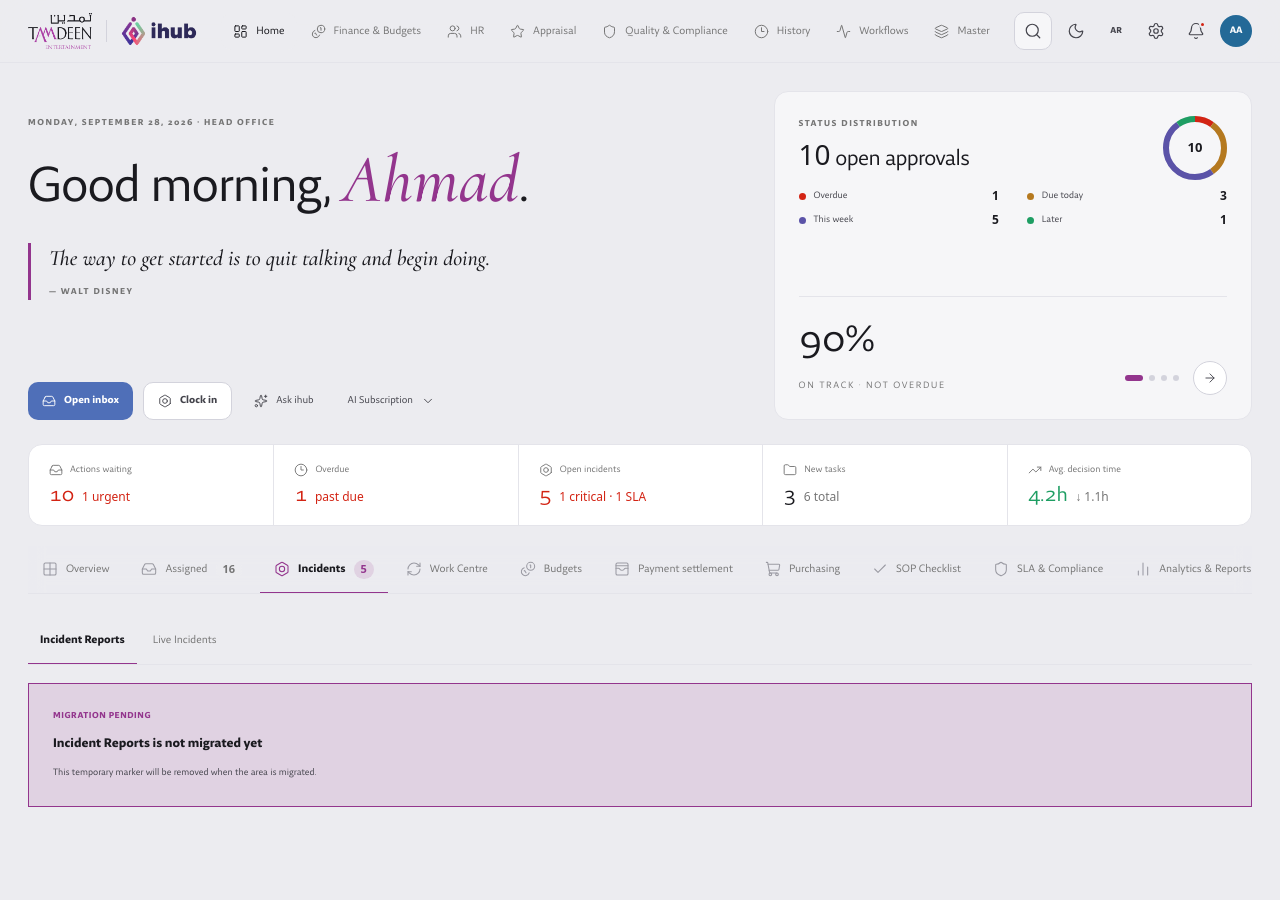
Test: M5.1 Home routes › switches incidents sub-tabs by URL while their later content stays pending
The image size is (1280, 900).
Click the button "Live Incidents". click: [185, 641]
box: [141,618,229,665]
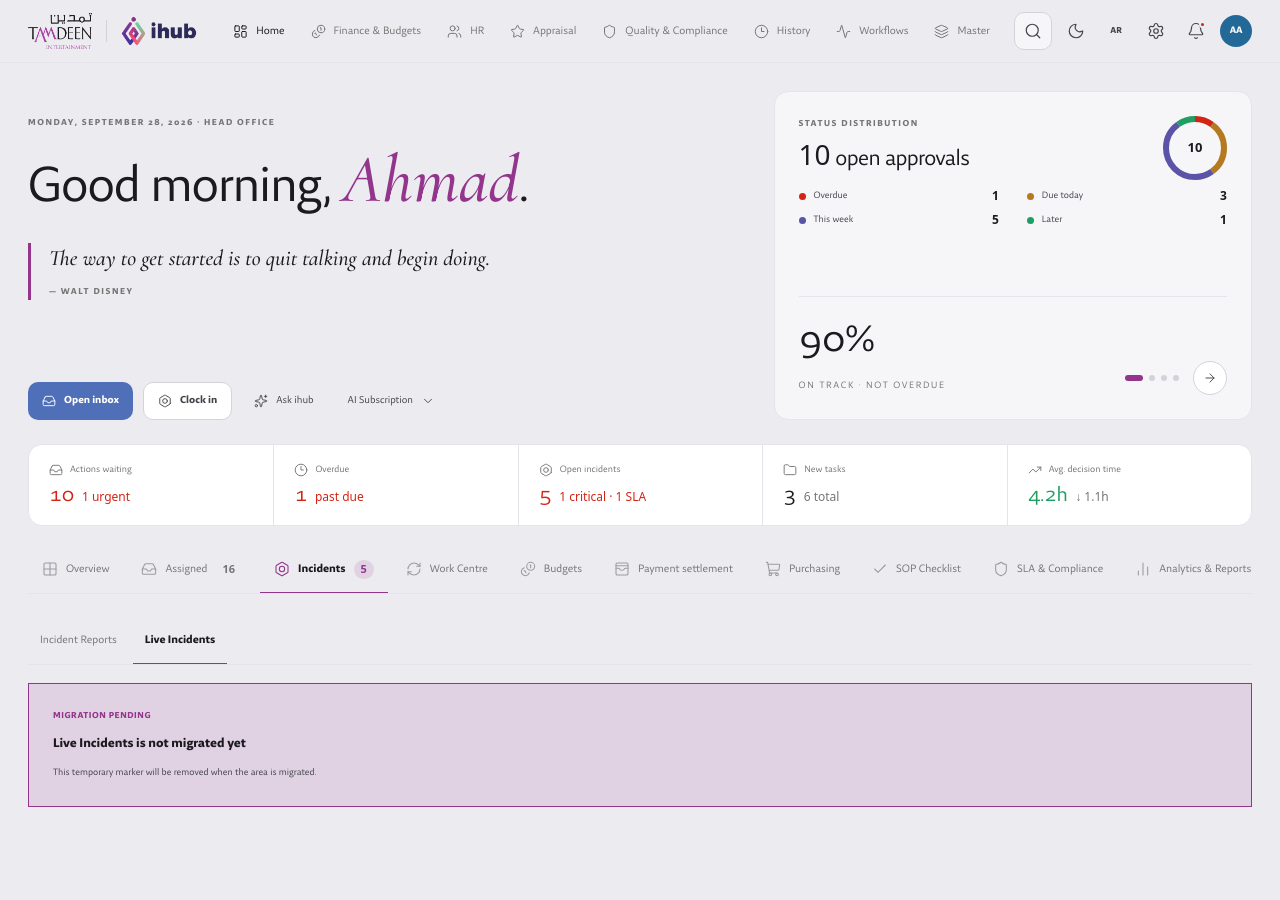
Now the message shows "Live Incidents", box [53,736,246,752]
